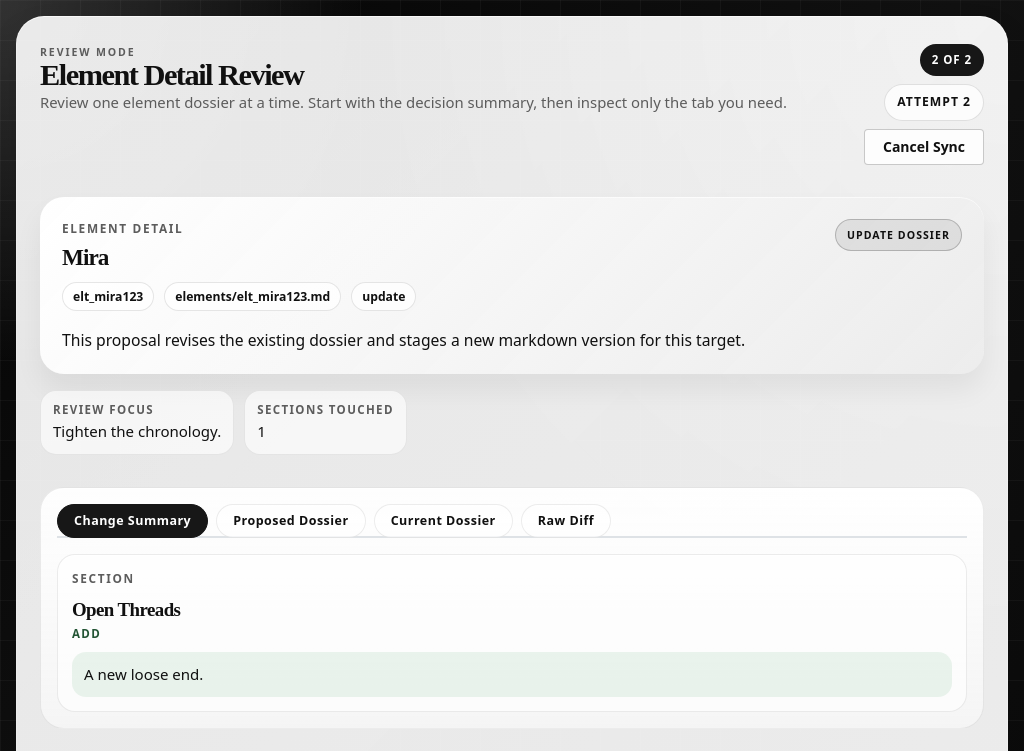
Scenario: SyncReviewPanel › renders the detail review state for element detail targets
Expected: the text with test id "detail-review-progress" reads "2 of 2", [932, 52, 972, 67]
Expected: the button with test id "cancel-review-inline-button" is shown, [864, 129, 984, 165]
Click the tab "Proposed Dossier". click: (291, 521)
box: [216, 504, 366, 538]
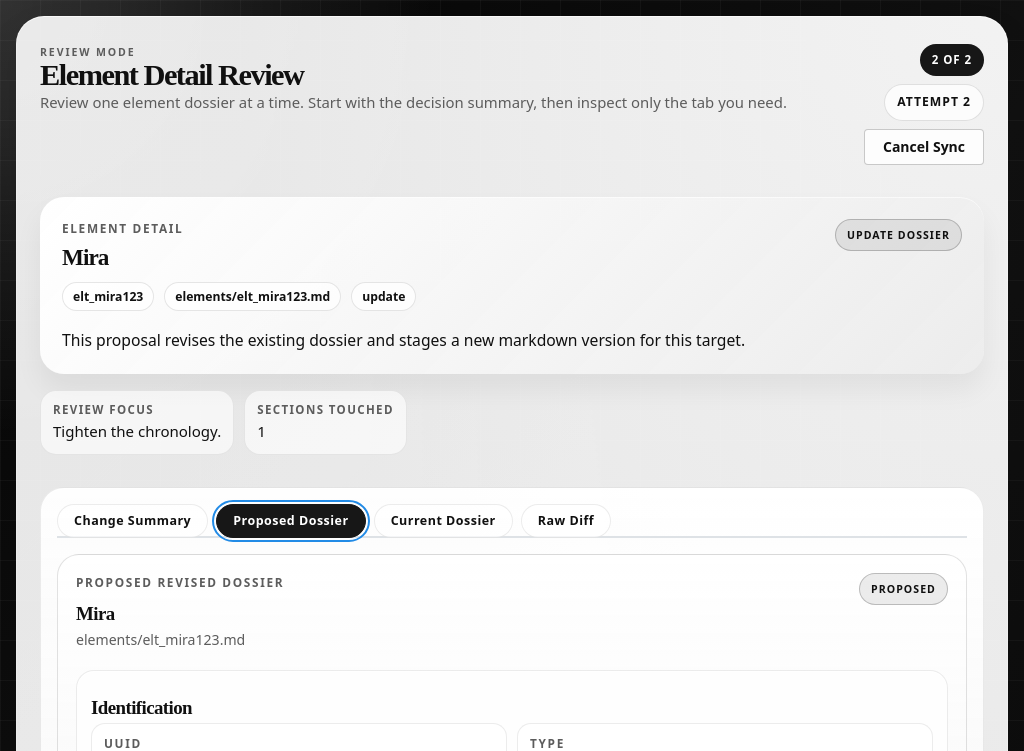
Click the tab "Raw Diff". click: (566, 521)
box: [521, 504, 611, 538]
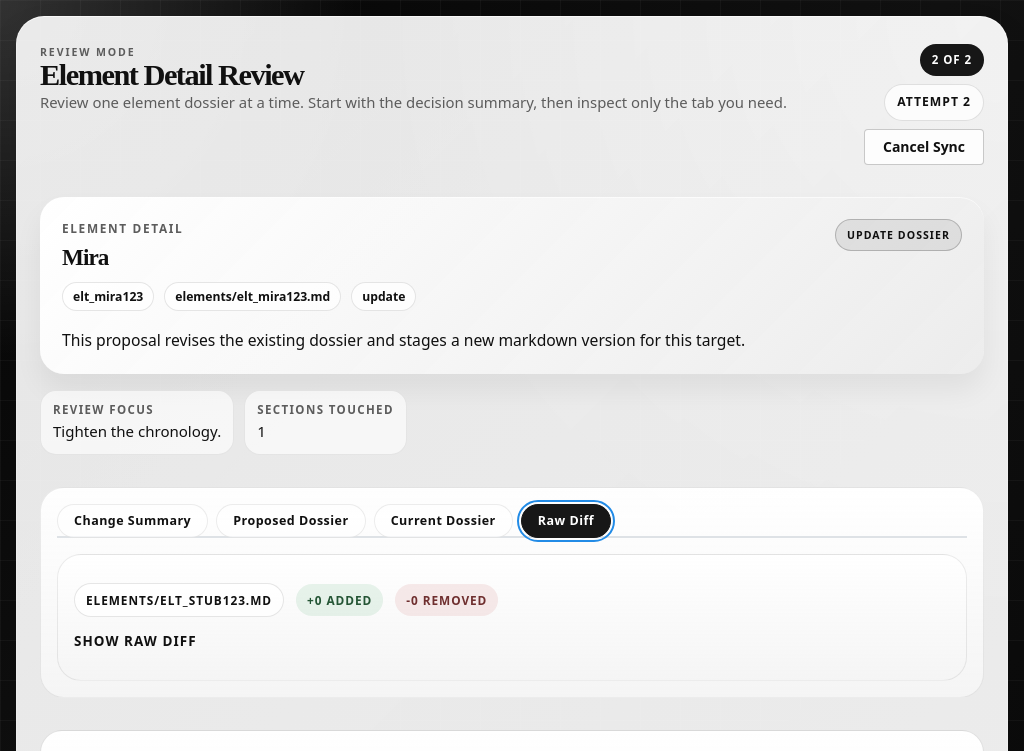
Result: the element with test id "detail-diff-viewer" is shown at [74, 583, 498, 650]
